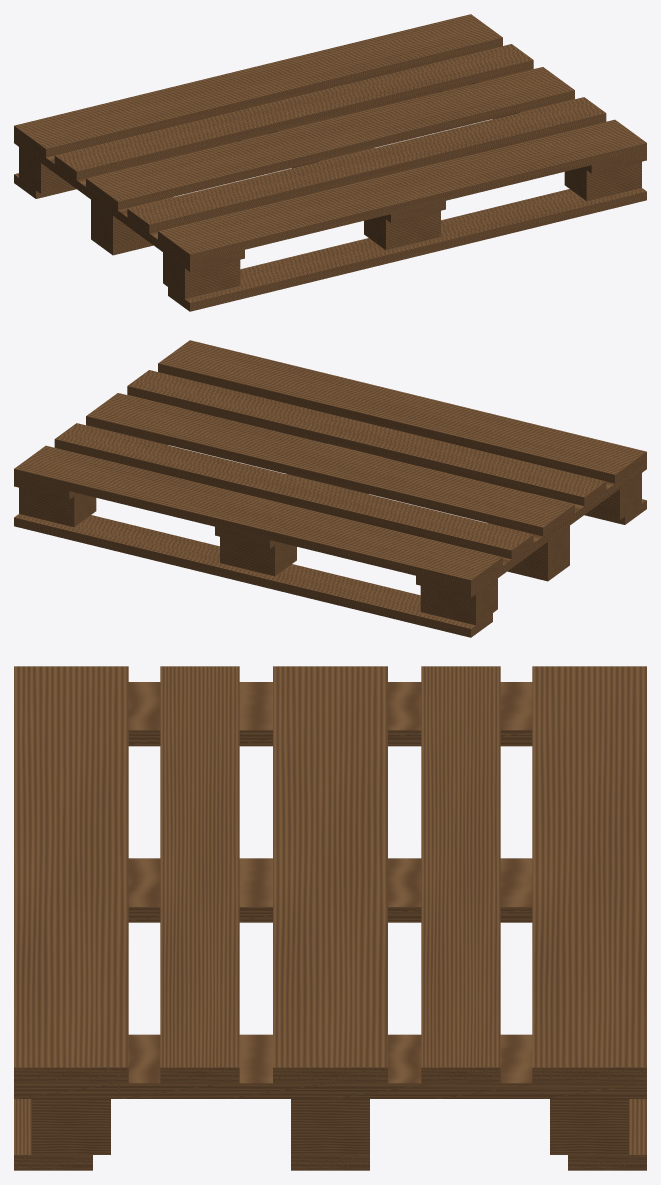
The model's file is pallet_L3.glb.
3 renders of one model, top to bottom at view 1: azimuth 30°, elevation 25°; view 2: azimuth 150°, elevation 25°; view 3: azimuth 270°, elevation 25°, orthographic. The views are drawn at different scales.
Parts seen in each view (by area): view 1: pallet:plank; view 2: pallet:plank; view 3: pallet:plank.
Boxes of the visible parts, box(x1,y1,x2,y2) form: pallet:plank: box(14, 14, 646, 311); pallet:plank: box(14, 340, 646, 637); pallet:plank: box(14, 666, 646, 1170).
Size of the model in its own units: 1.2 by 0.144 by 0.8.
1 material, 1 textured.
